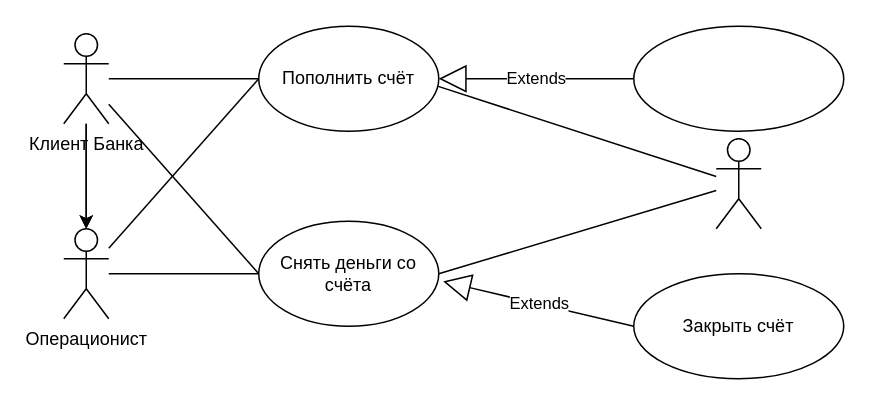
This 870x405 diagram has some shape labels left out. The shapes that lost their labels are listed below. From the top down, each one's box as (x1, y1, x2, y2) in pixels, then its label:
(632, 25, 844, 131): Открыть счёт
(715, 137, 761, 229): Кассир
